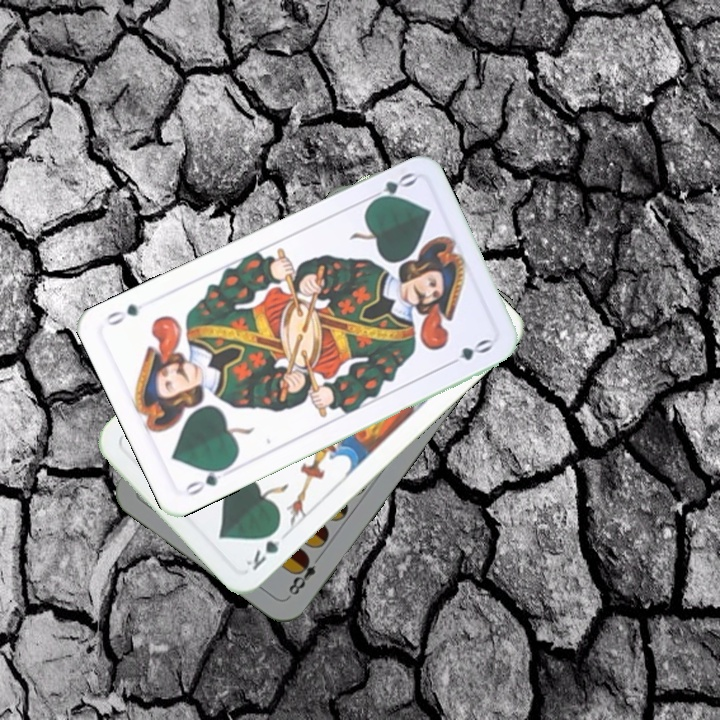E8: (284, 550, 325, 598)
GK: (242, 522, 291, 574)
GO: (362, 168, 419, 208), (179, 461, 233, 499)
